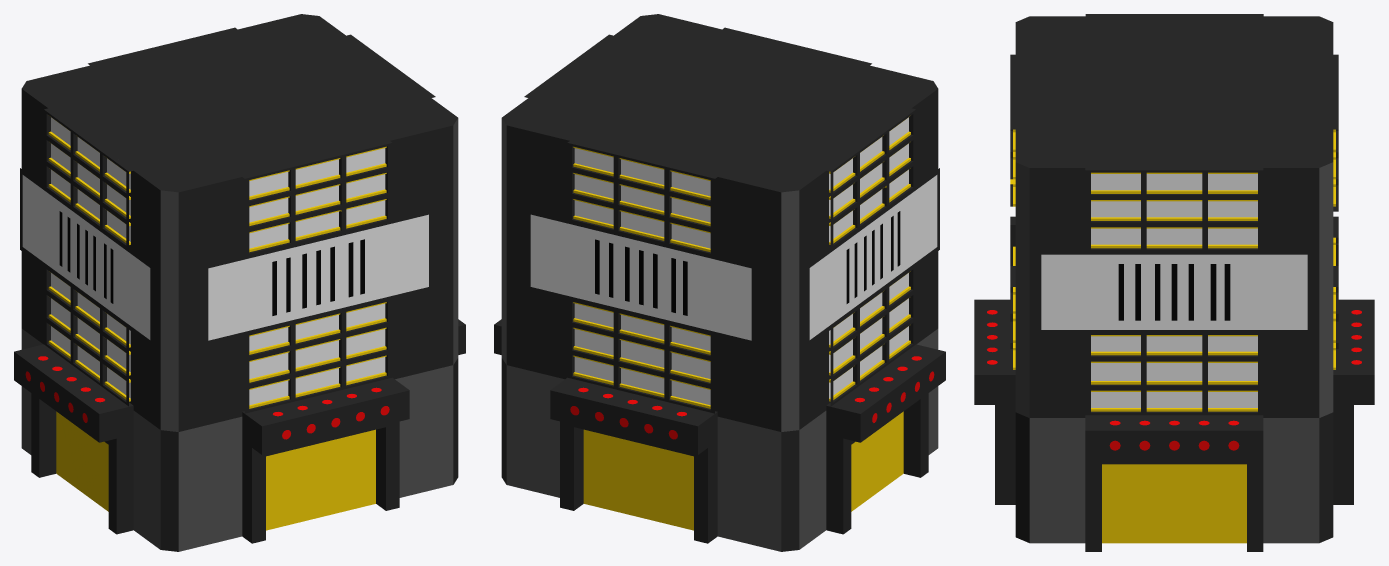
File: Edificio 23.fbx
3 renders of one model, left to right at view 1: azimuth 30°, elevation 25°; view 2: azimuth 150°, elevation 25°; view 3: azimuth 270°, elevation 25°, orthographic. The views are drawn at different scales.
Visible parts, largest first — view 1: Pared 1 [8388], [8269], Pared 1 [8266], Pared 1 [8263]; view 2: Pared 1 [8391], [8269], Pared 1 [8266], Pared 1 [8263]; view 3: Pared 1 [8263], [8269], Pared 1 [8391], Pared 1 [8388], Pared 1 [8266].
Part boxes in pixels (x1=…): Pared 1 [8388]: x1=195, y1=129, x2=436, y2=547; [8269]: x1=22, y1=14, x2=458, y2=551; Pared 1 [8266]: x1=14, y1=89, x2=160, y2=549; Pared 1 [8263]: x1=346, y1=34, x2=465, y2=354; Pared 1 [8391]: x1=523, y1=129, x2=764, y2=547; [8269]: x1=501, y1=14, x2=937, y2=551; Pared 1 [8266]: x1=799, y1=89, x2=945, y2=549; Pared 1 [8263]: x1=494, y1=34, x2=613, y2=354; Pared 1 [8263]: x1=1029, y1=168, x2=1319, y2=551; [8269]: x1=1015, y1=16, x2=1333, y2=542; Pared 1 [8391]: x1=1333, y1=54, x2=1374, y2=504; Pared 1 [8388]: x1=974, y1=54, x2=1015, y2=504; Pared 1 [8266]: x1=1085, y1=14, x2=1263, y2=16.
Bounding box in the file's own units: 630 × 571 × 591.
